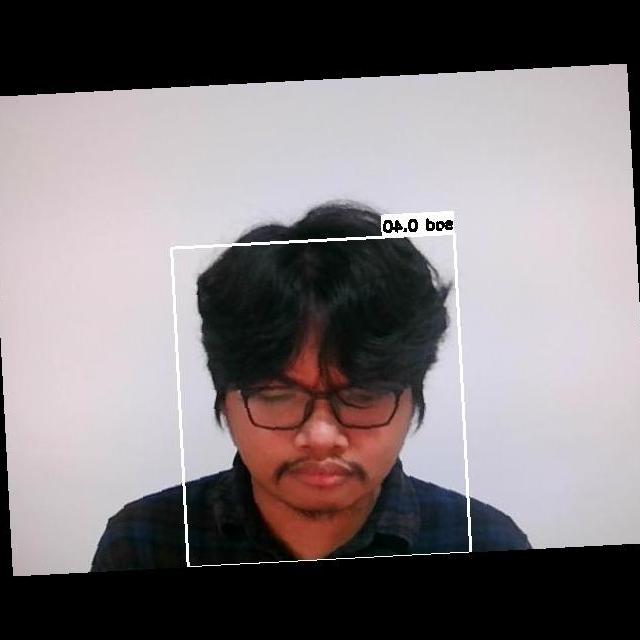Angry: (228, 342, 409, 496)
